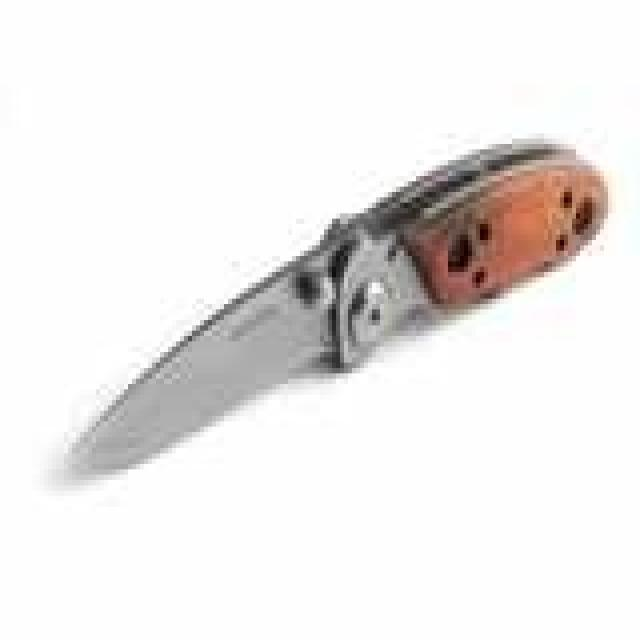knife: (70, 108, 611, 489)
